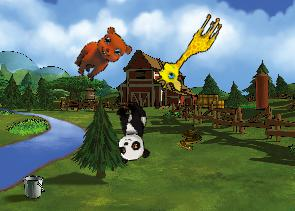bear: (69, 21, 136, 91)
giraffe: (151, 5, 226, 97)
panda: (112, 100, 151, 163)
